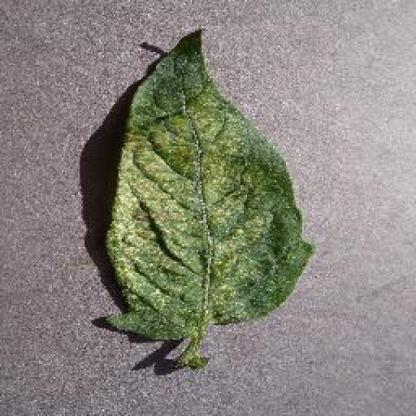Tomato_Spider_Mites: (107, 30, 312, 323)
